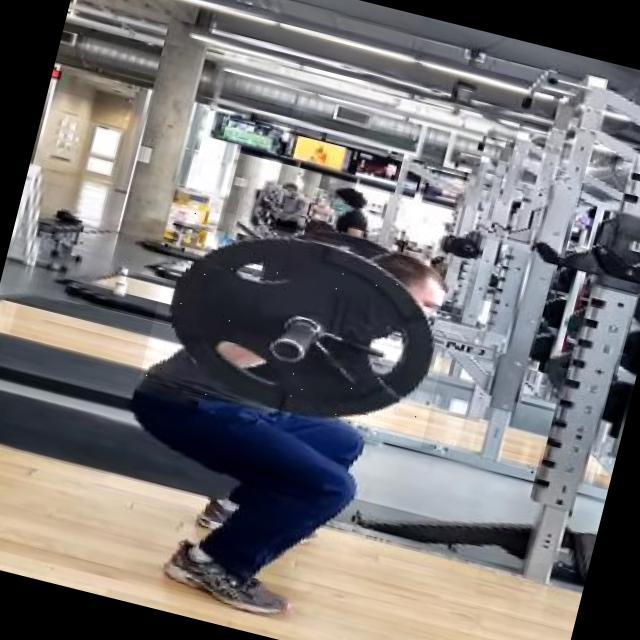barbell: (140, 202, 466, 449)
